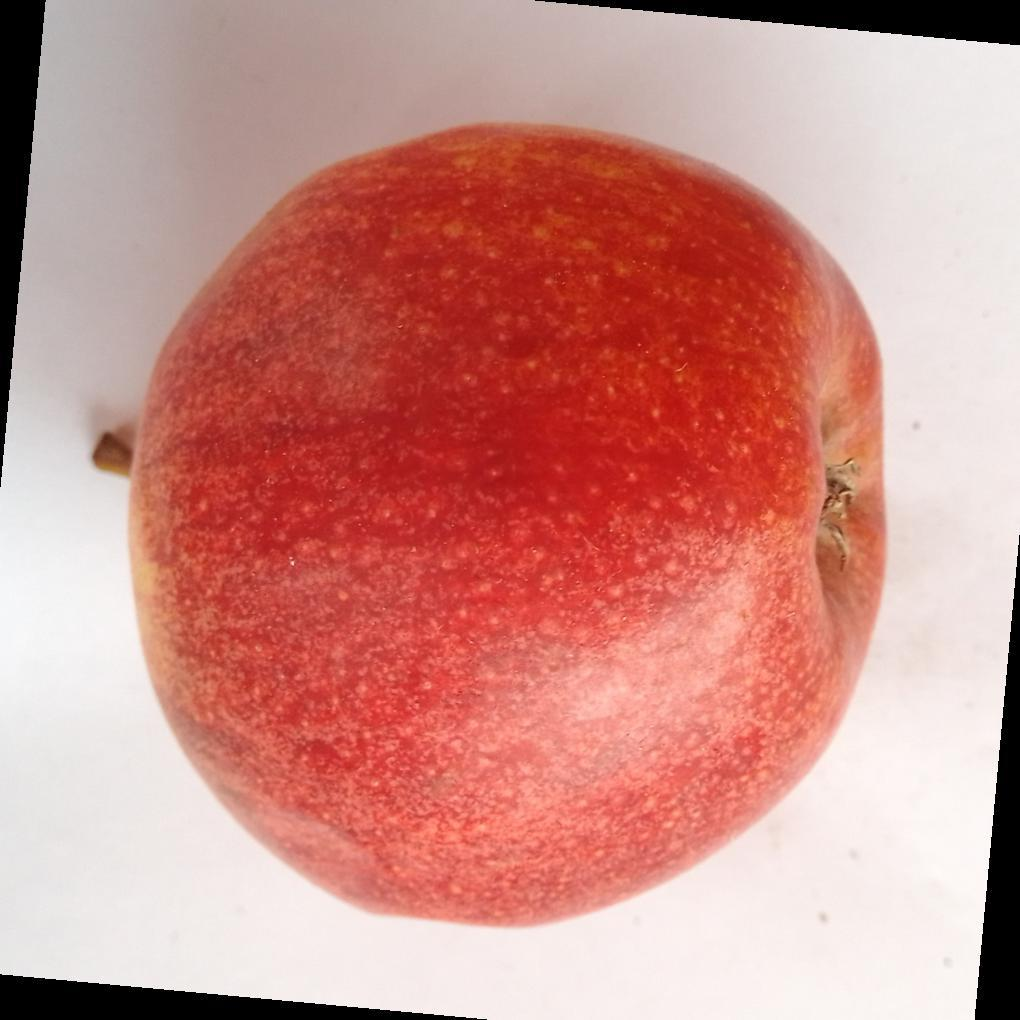FreshGuava: (126, 122, 888, 933)
